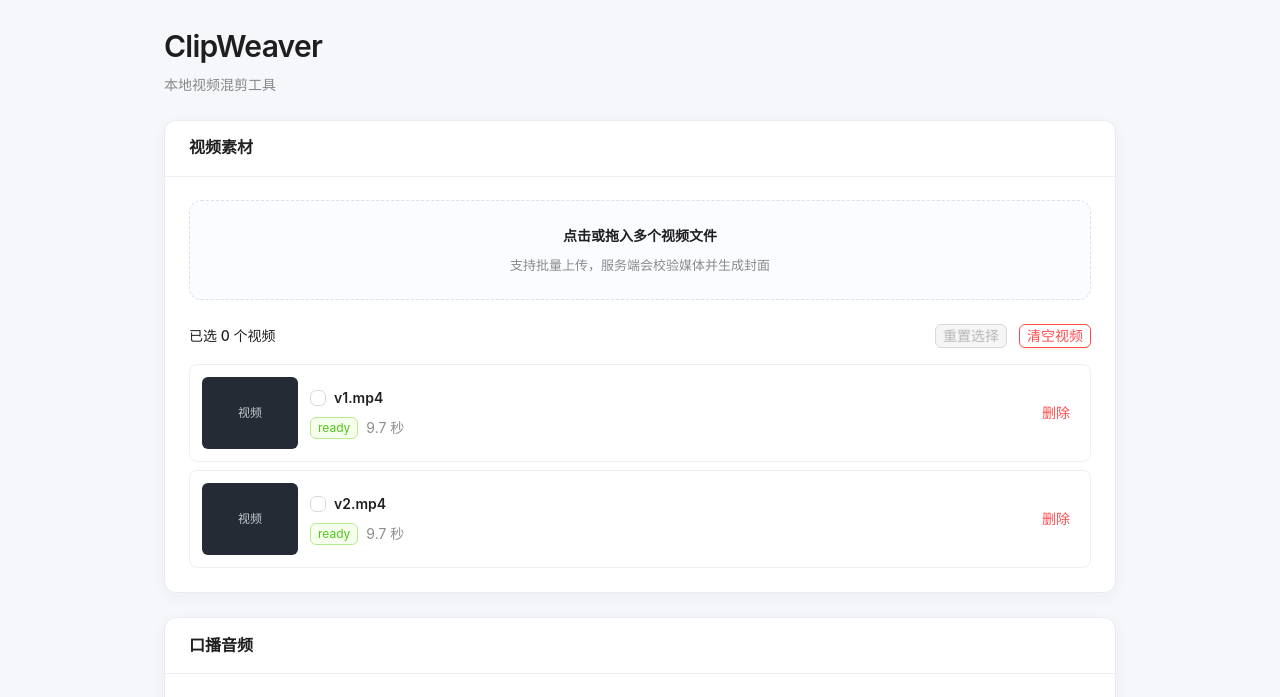
Test case: reset selection clears mix state while preserving videos, audio and seed
This screenshot has width=1280, height=697.
Expected: the button with aria-label "删除视频 v1.mp4" is shown, [1034, 401, 1078, 425]
Expected: the button "重置选择" is disabled, [935, 324, 1007, 348]
Click the checkbox named "选择视频 v1.mp4". click: point(318, 398)
box: [310, 387, 326, 409]
(page scrolled)
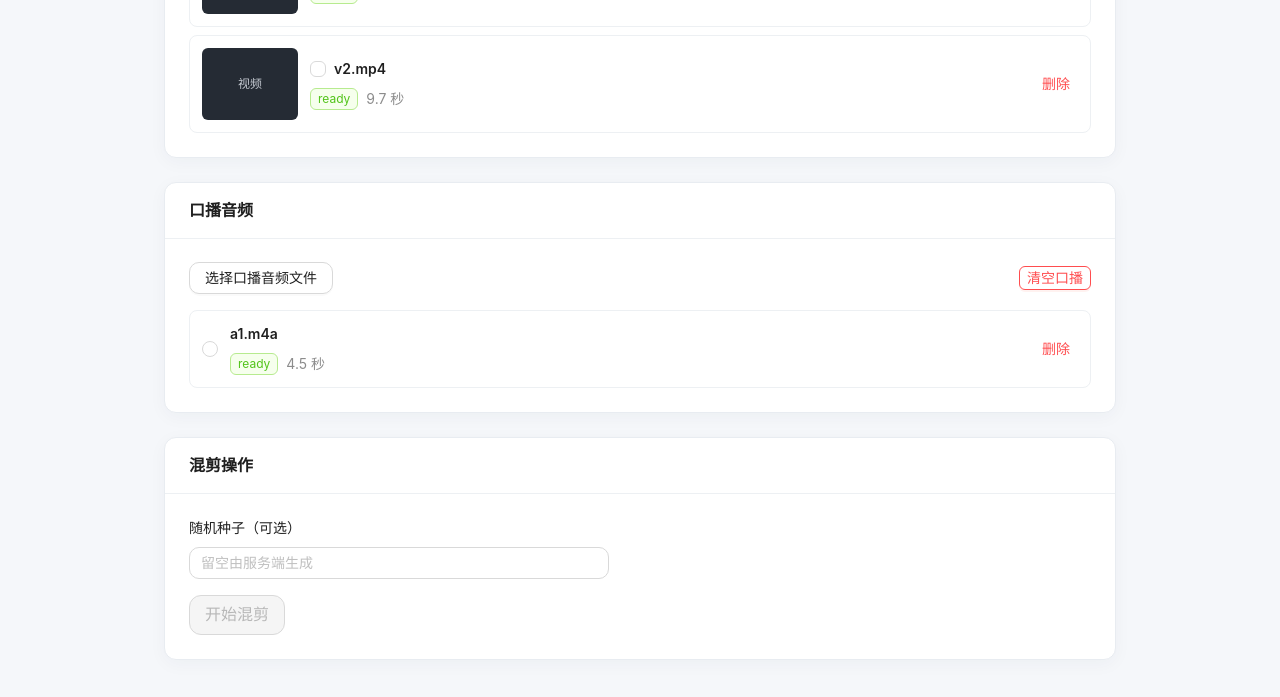
Click the radio button named "选择口播 a1.m4a". click: point(210, 349)
box: [202, 338, 218, 360]
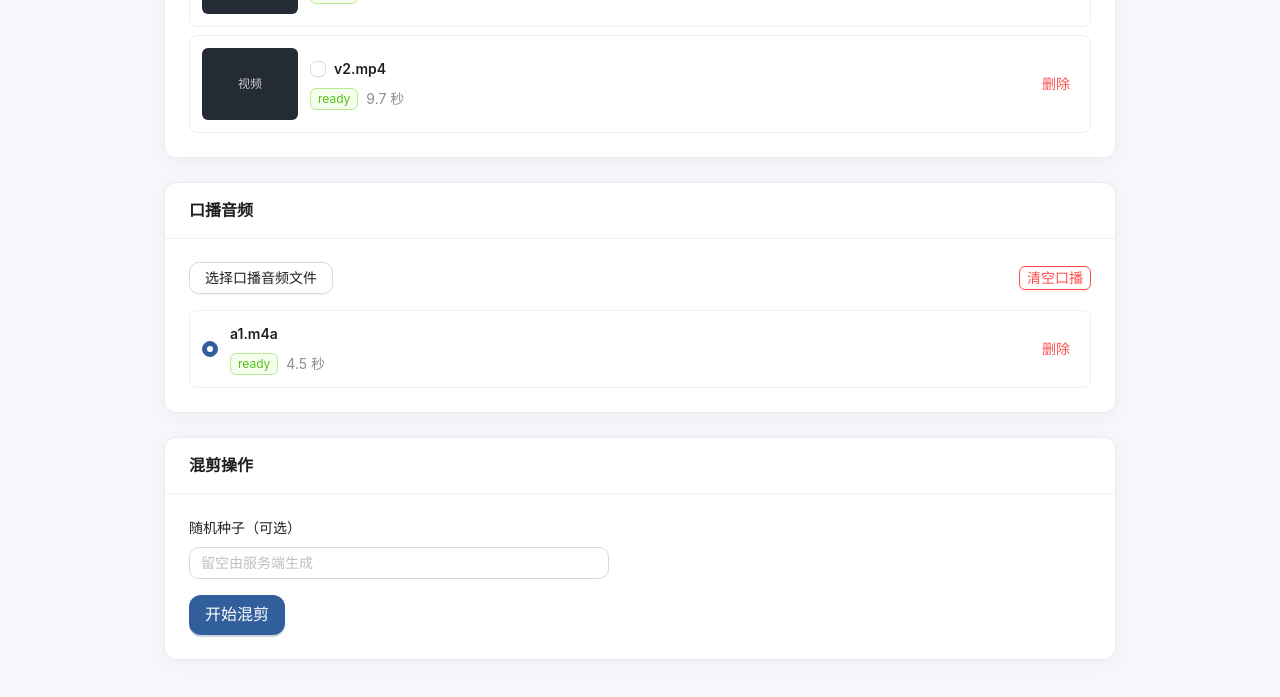
Type "42" into the field labelled "随机种子（可选）". click: point(399, 563)
box: [189, 547, 609, 579]
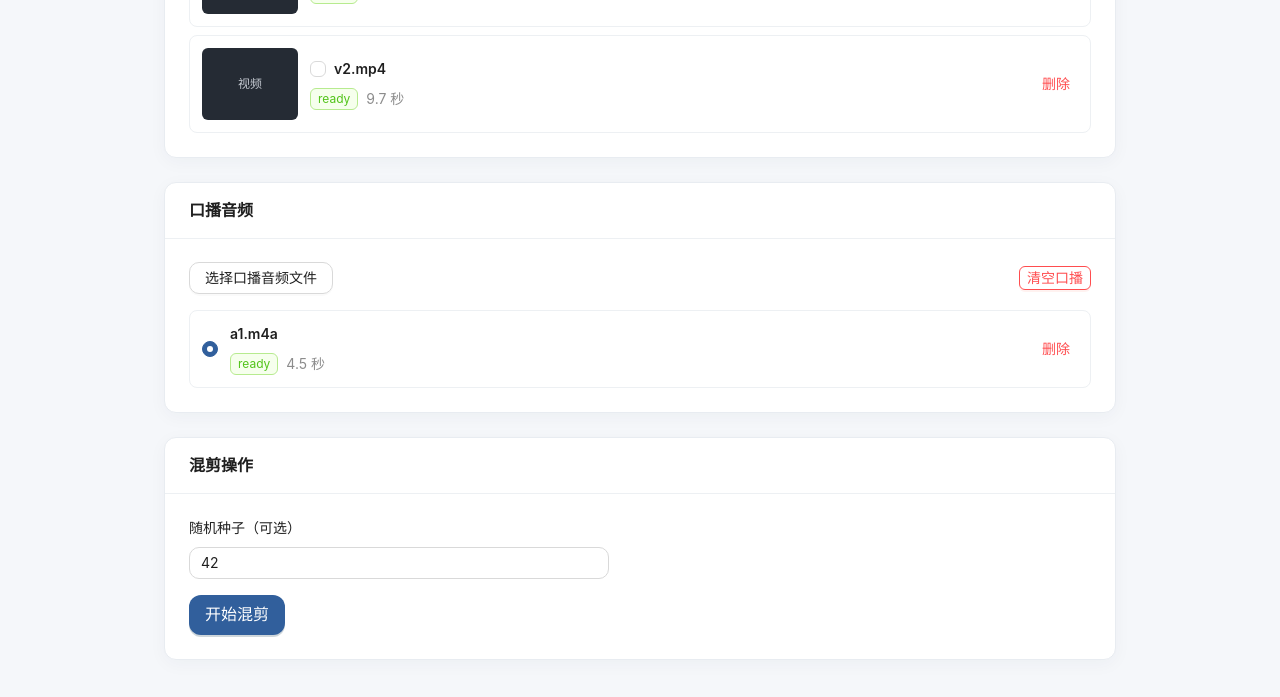
Click the button "开始混剪". click: point(237, 615)
box: [189, 595, 285, 635]
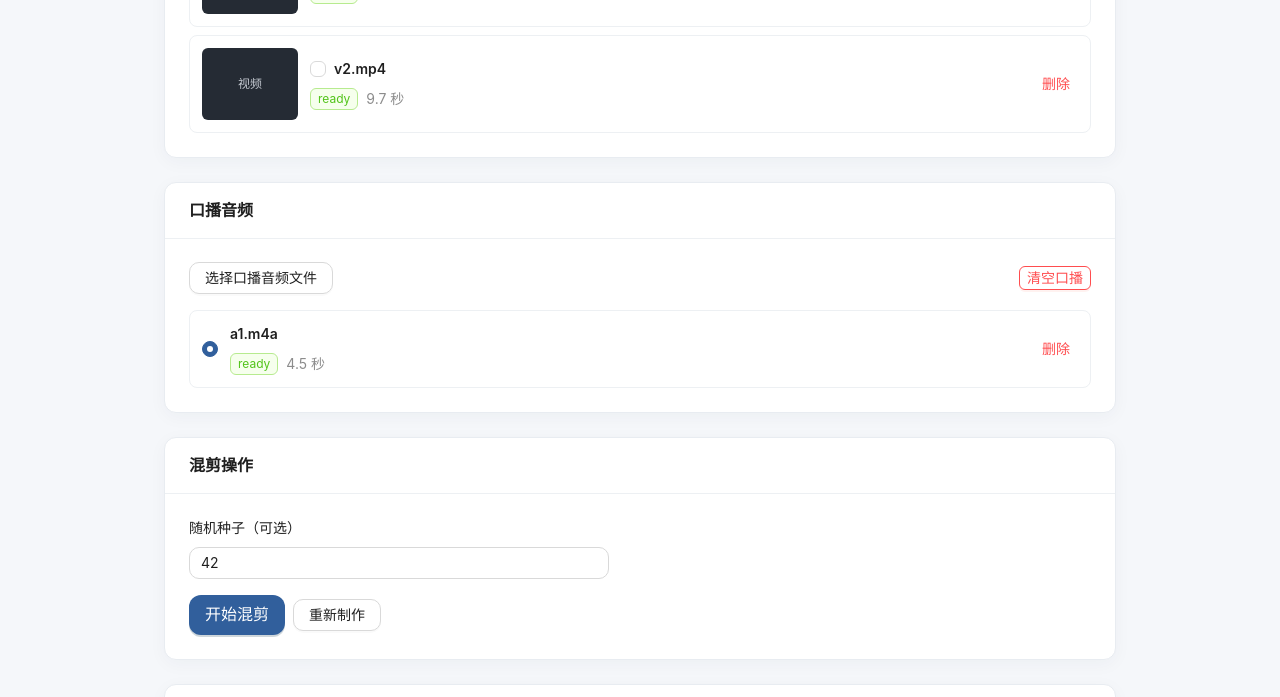
Click the button "重新制作". click: point(337, 615)
box: [293, 599, 381, 631]
(page scrolled)
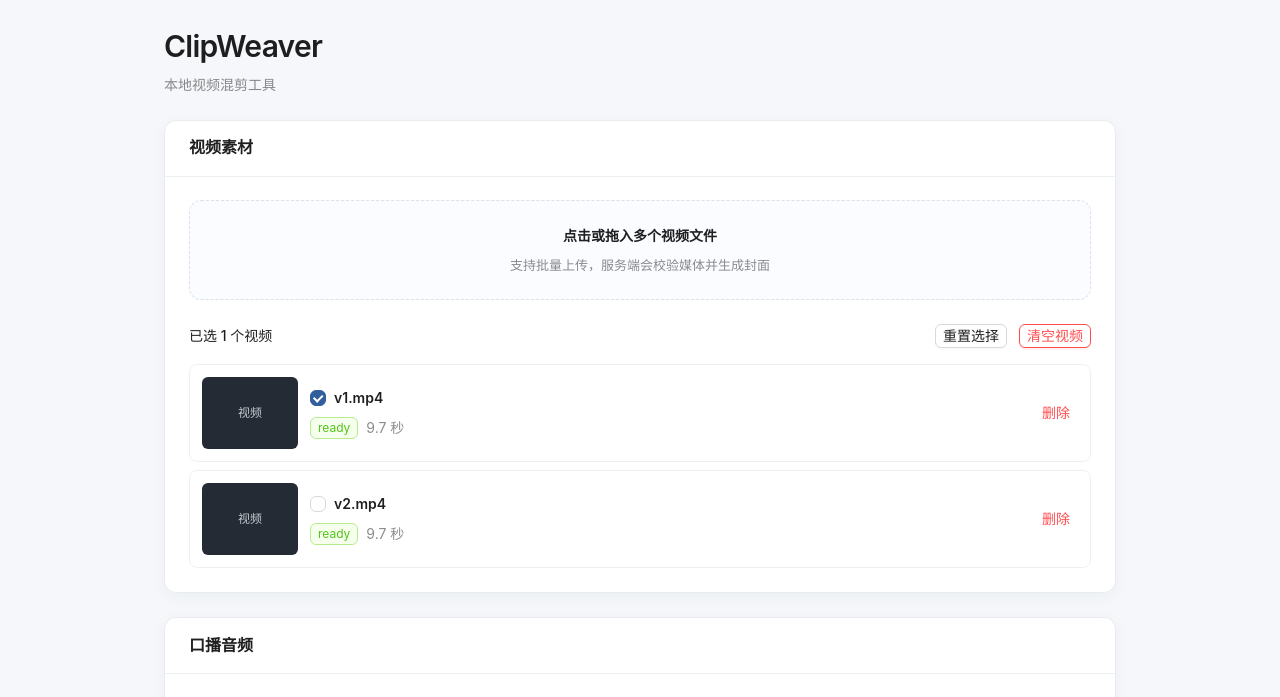
Click the button "重置选择". click: point(971, 336)
box: [935, 324, 1007, 348]
(page scrolled)
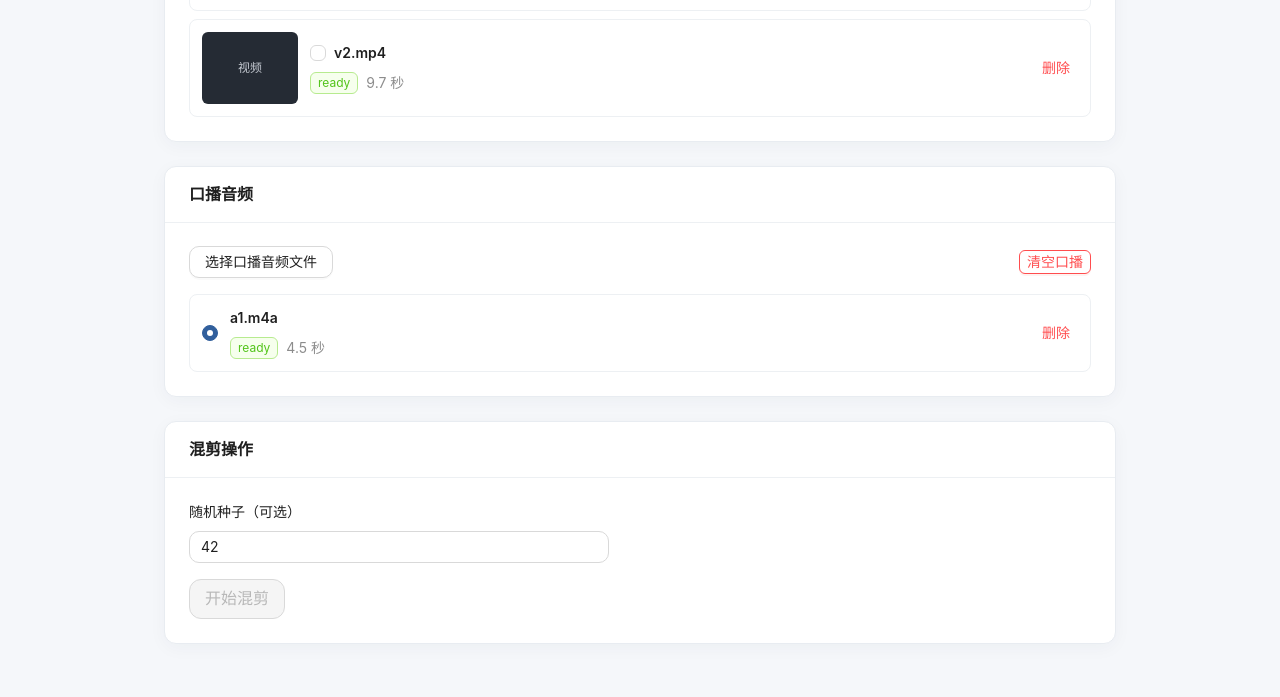
Expected: the checkbox named "选择视频 v2.mp4" is shown, [310, 42, 326, 64]
Now the radio button named "选择口播 a1.m4a" is checked, box [202, 322, 218, 344]
Now the button "开始混剪" is disabled, box [189, 579, 285, 619]
